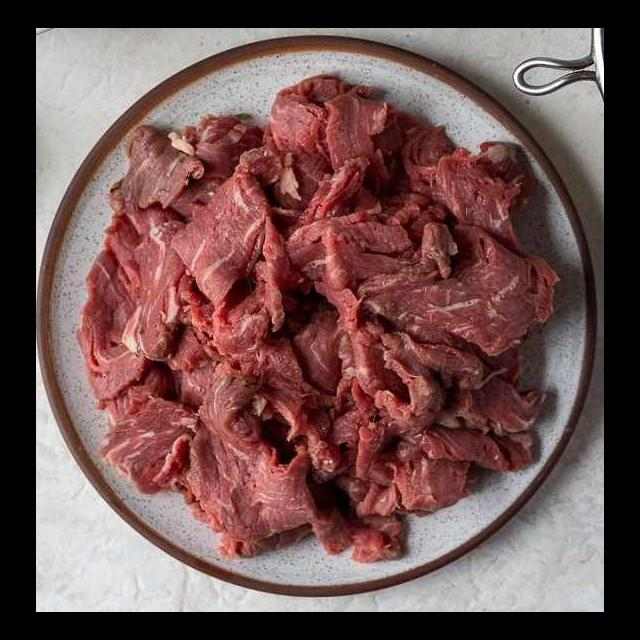thit bo: (282, 204, 454, 408), (344, 218, 565, 372), (169, 349, 325, 562), (72, 187, 197, 410), (250, 69, 387, 252), (167, 205, 317, 361), (163, 141, 288, 309), (337, 421, 511, 527), (428, 128, 546, 277), (92, 388, 212, 503), (103, 116, 213, 221)
